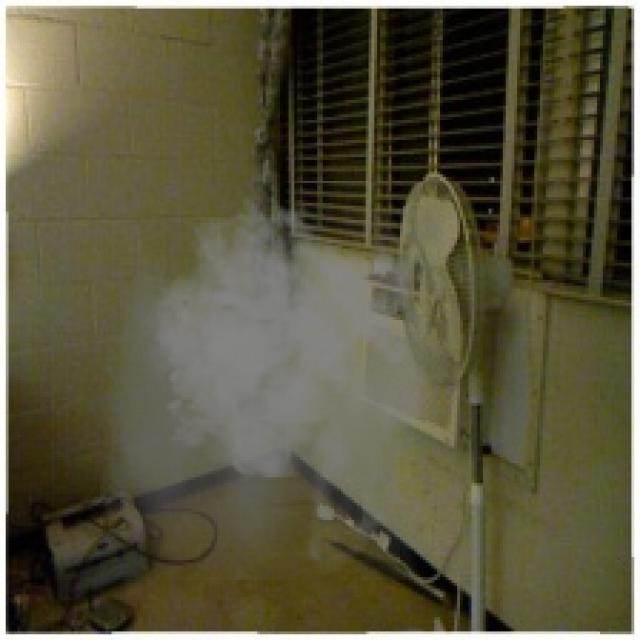smoke: (100, 194, 446, 580)
